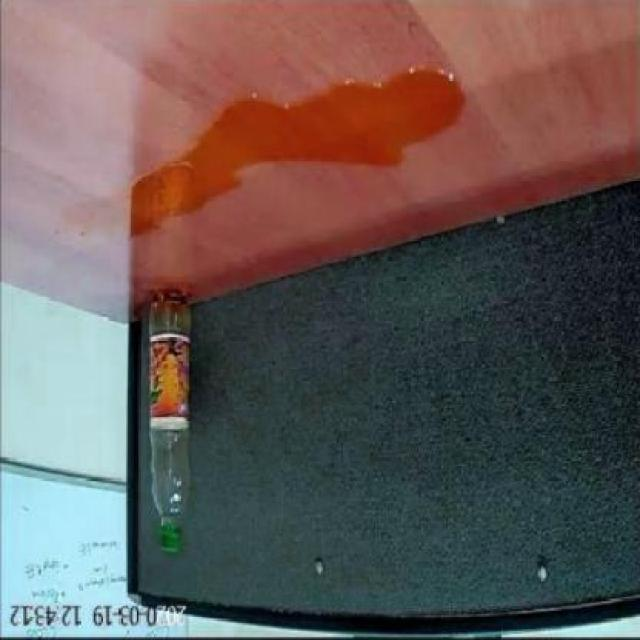spillage: (126, 50, 469, 238)
